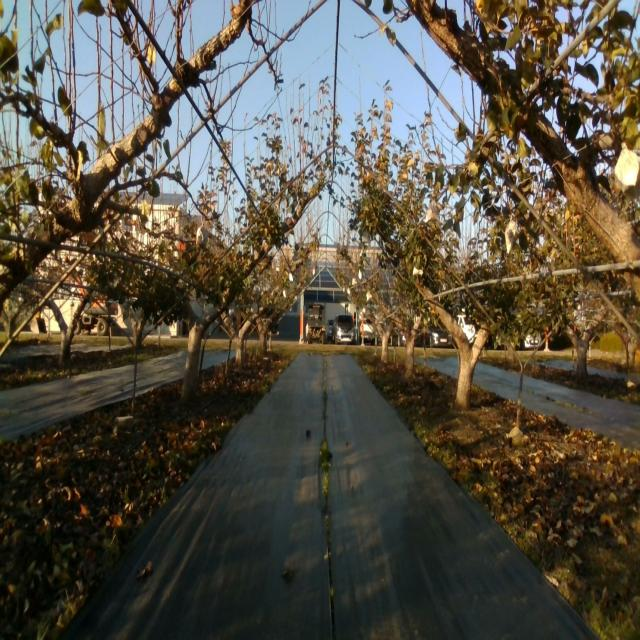pearbags: (614, 140, 640, 196), (504, 215, 520, 255), (426, 200, 441, 222), (197, 222, 208, 251)
